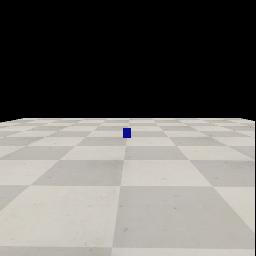box: (123, 128, 131, 138)
